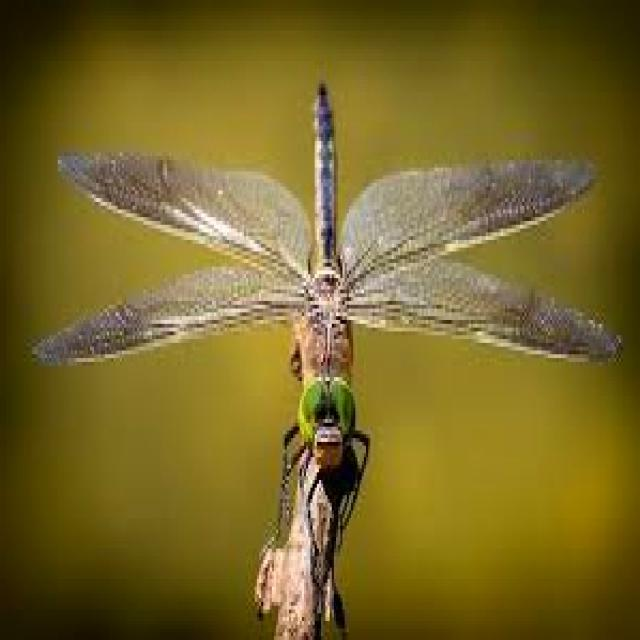dragonfly: (36, 84, 621, 526)
